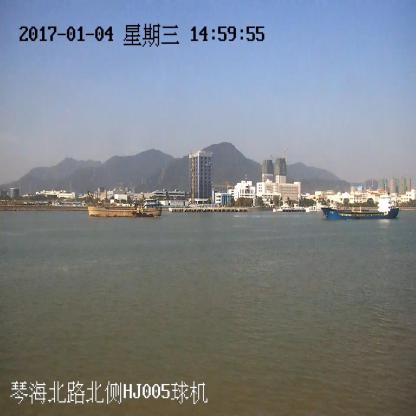Bulk Carrier: (324, 194, 398, 219), (88, 193, 161, 218)
